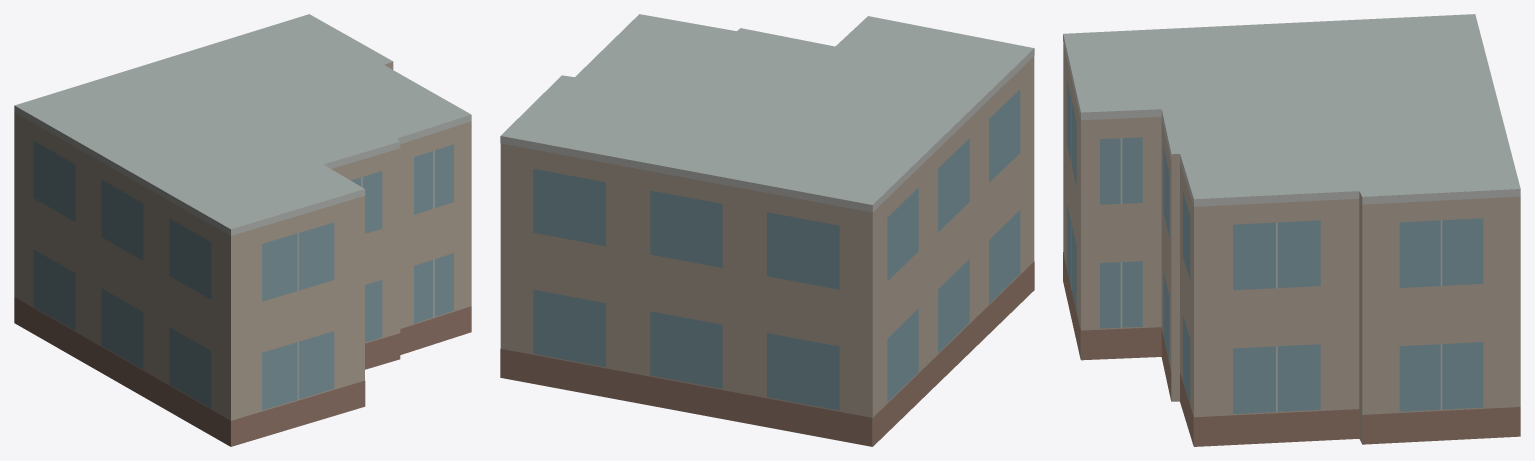
File: survey-upis-32634441.glb
The picture shows the model from 3 angles, left to right: view 1: azimuth 30°, elevation 25°; view 2: azimuth 150°, elevation 25°; view 3: azimuth 270°, elevation 25°; orthographic projection. The views are drawn at different scales.
Visible parts, largest first — view 1: survey-upis-32634441.tmp; view 2: survey-upis-32634441.tmp; view 3: survey-upis-32634441.tmp.
Part boxes in pixels (box(x1,y1,x2,y2)): survey-upis-32634441.tmp: box(14, 14, 471, 446); survey-upis-32634441.tmp: box(500, 14, 1034, 446); survey-upis-32634441.tmp: box(1063, 14, 1520, 446).
Size of the model in its own units: 12.68 by 7.9 by 13.24.
